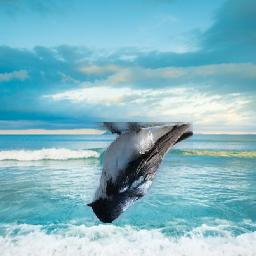Swallow: (87, 123, 194, 224)
